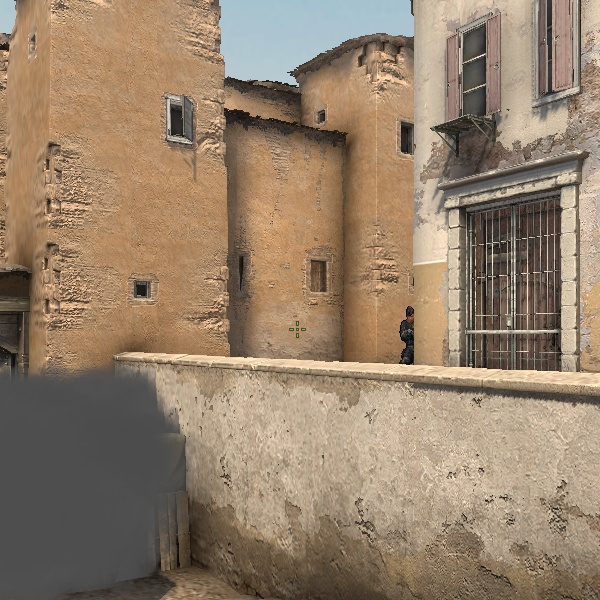ct_body: (399, 307, 414, 365)
ct_head: (405, 306, 414, 323)
